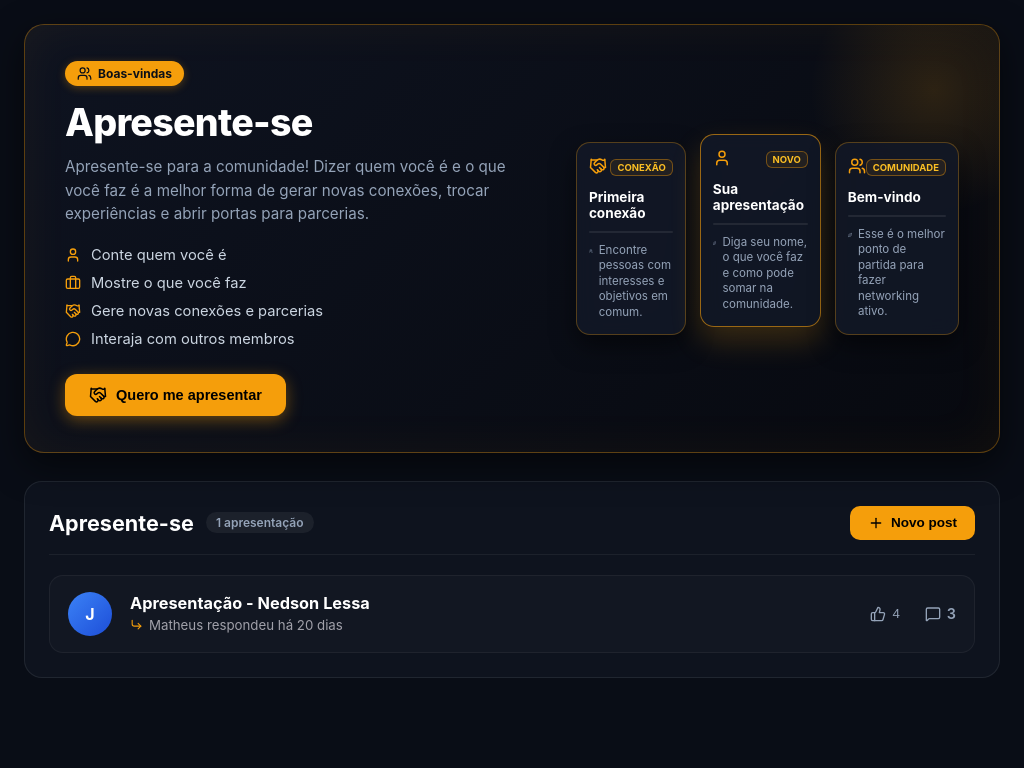
IntroductionManagement Component › permite clicar em um post para abrir o modal de detalhes, curtir e comentar
This screenshot has width=1024, height=768.
// Espera listar o post
Click the button with test id "intro-post-row-101" at (90, 614), box [49,575,975,653]
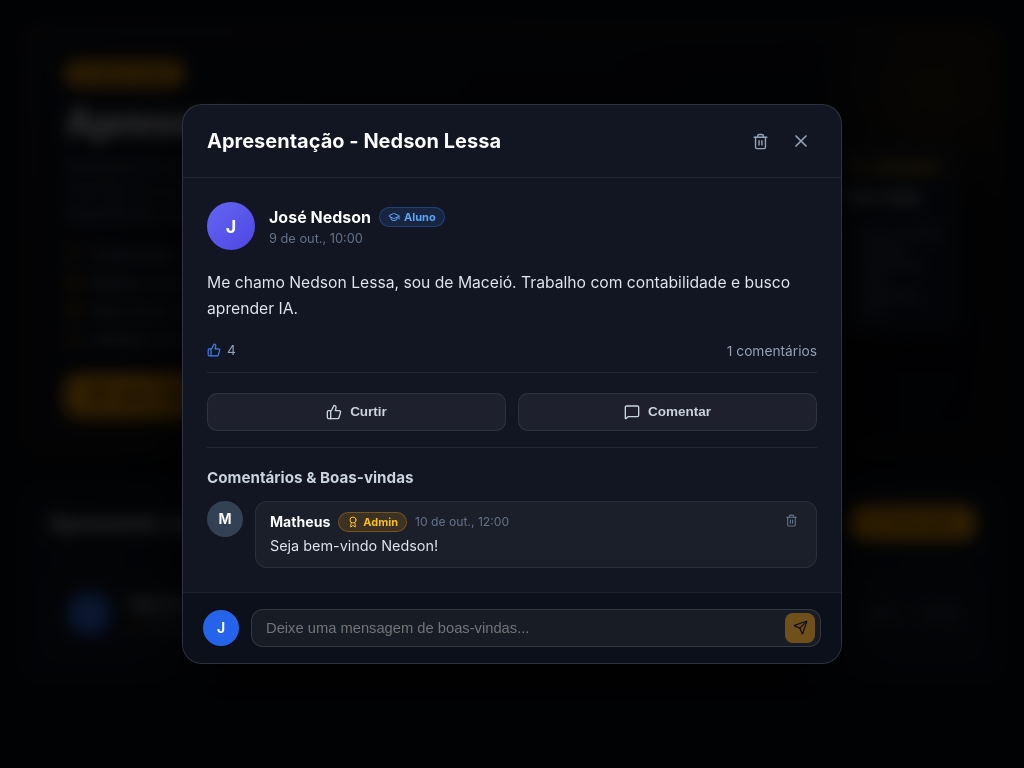
Expected: the dialog with test id "intro-post-modal" is shown, [182,104,842,664]
Expected: the text with test id "intro-post-content" shows "Me chamo Nedson Lessa, sou de Maceió", [207,273,794,318]
Expected: the text "Seja bem-vindo Nedson!" is shown, [270,537,438,554]
// Clica em Curtir
Click the button with test id "toggle-like-post-btn" at (356, 412), box [207,393,506,431]
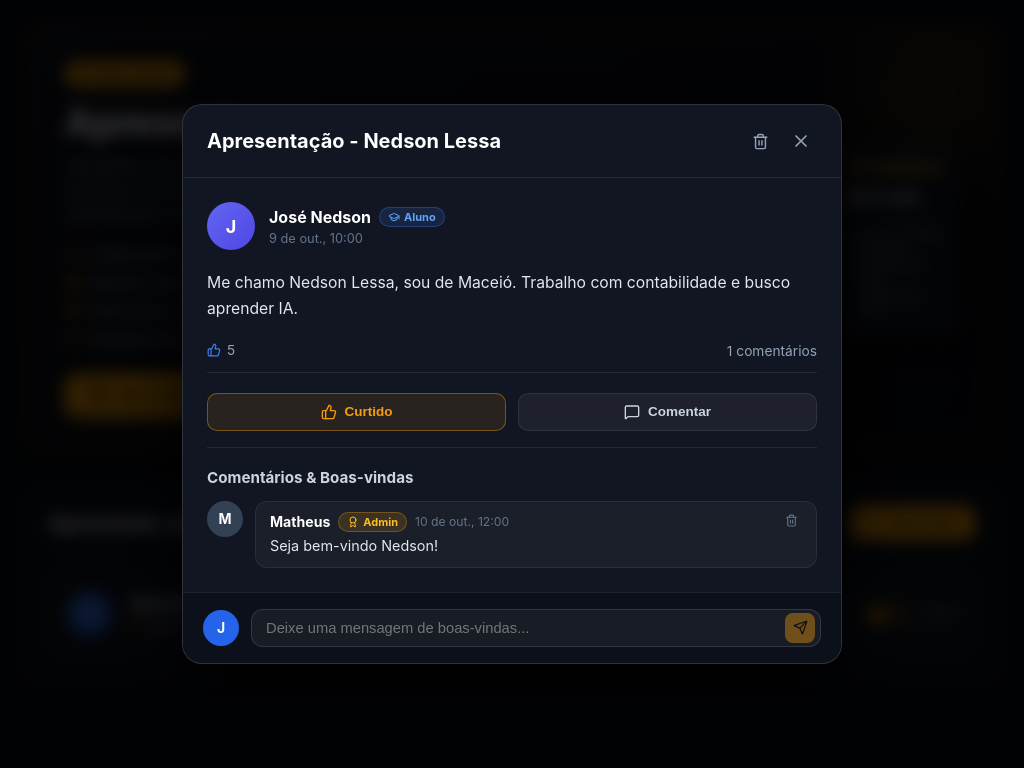
// Envia novo comentário
Type "Obrigado pelas boas-vindas!" into the field with test id "new-comment-input" at (536, 628), box [251,609,821,647]
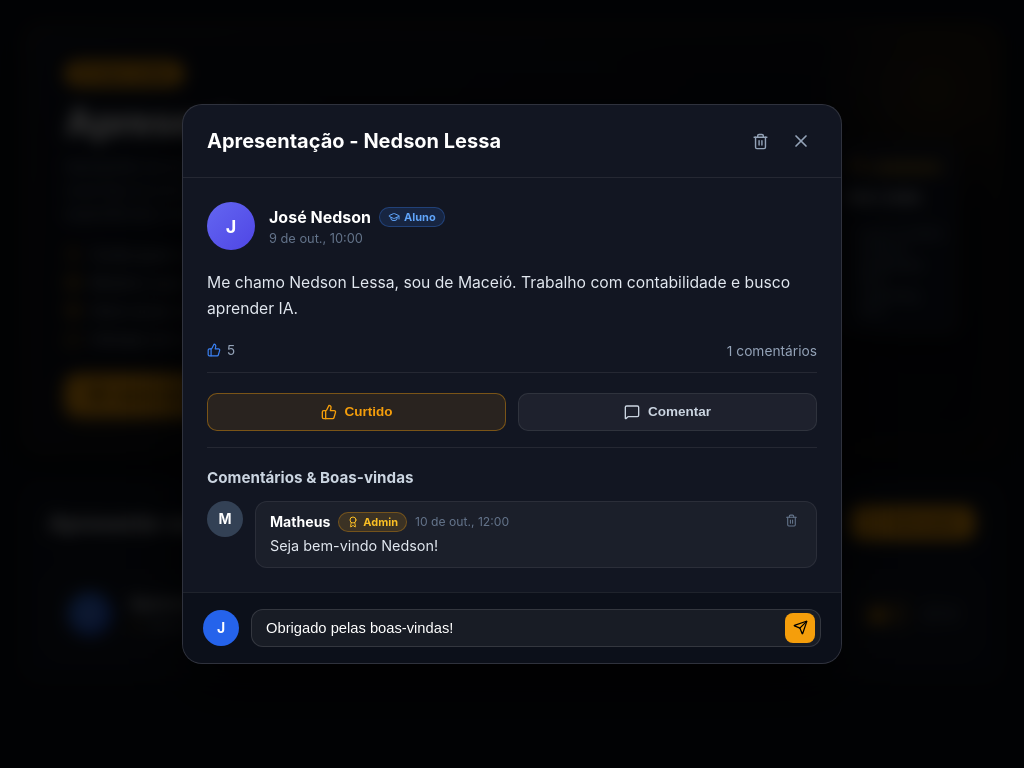
Click the button with test id "submit-comment-btn" at (800, 628), box [785,613,815,643]
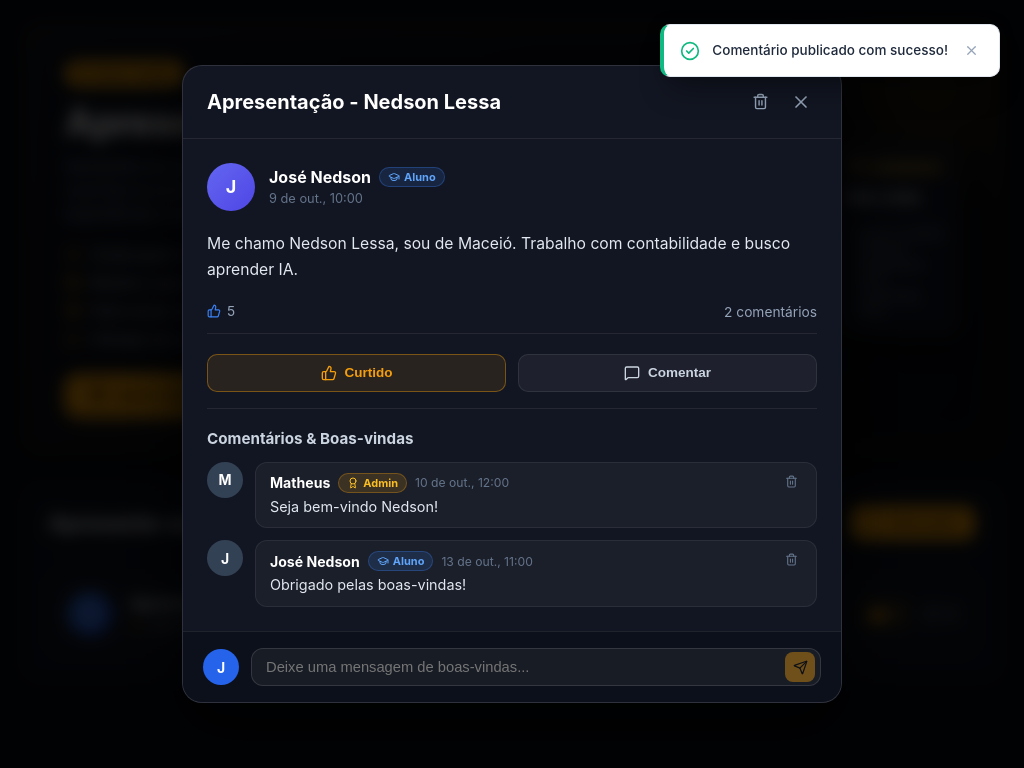
Expected: the text "Obrigado pelas boas-vindas!" is shown, [270,576,466,593]
// Fecha o modal
Click the button with test id "close-intro-post-modal-btn" at (801, 102), box [785,86,817,118]
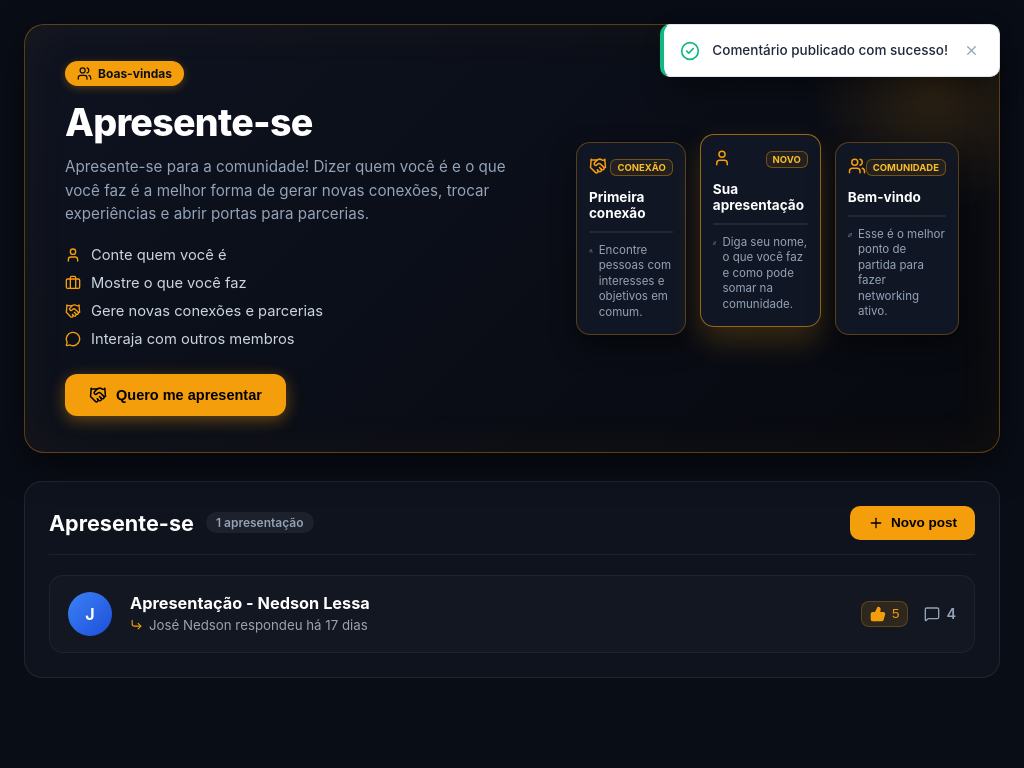
Expected: the dialog with test id "intro-post-modal" is gone
